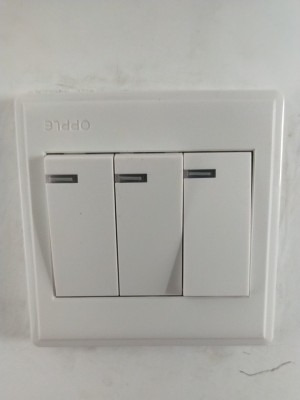switch: (38, 149, 124, 302), (178, 146, 258, 302), (108, 145, 188, 300)
